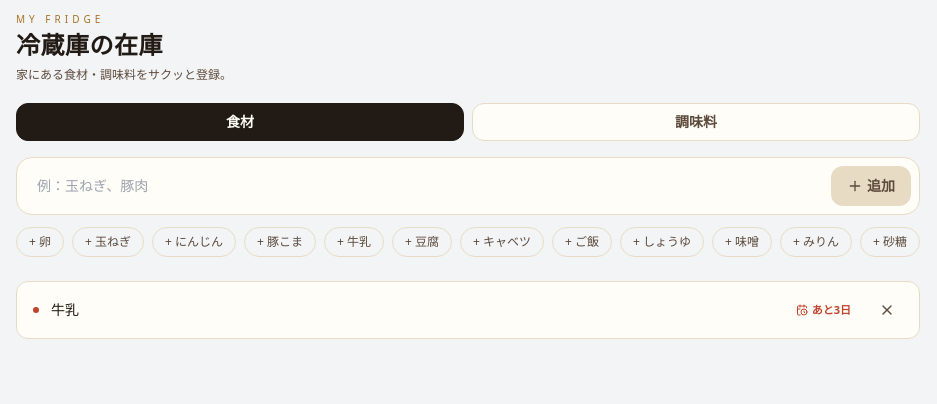
Test: FridgeView — changing an expiry › opens a date field for the ingredient
The image size is (937, 404).
Click the button with aria-label "牛乳 の賞味期限を変更".
click(823, 310)  # box [788, 298, 859, 322]
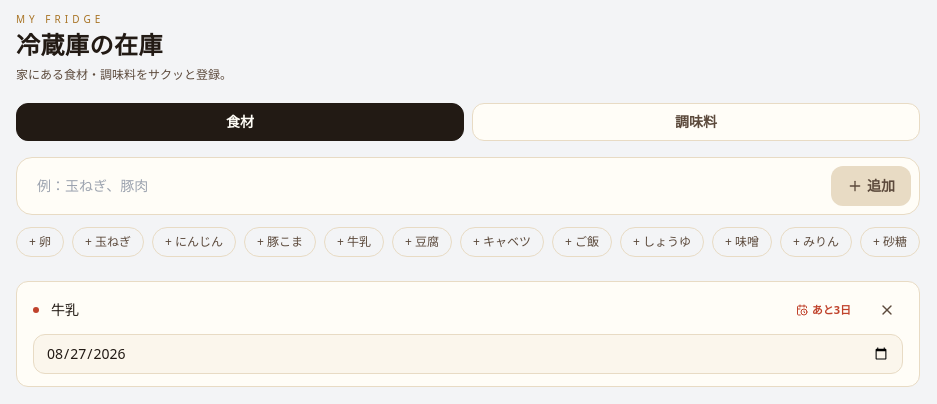
Expected: the date field named "牛乳 の賞味期限" holds "2026-08-27", [33, 334, 903, 374]
